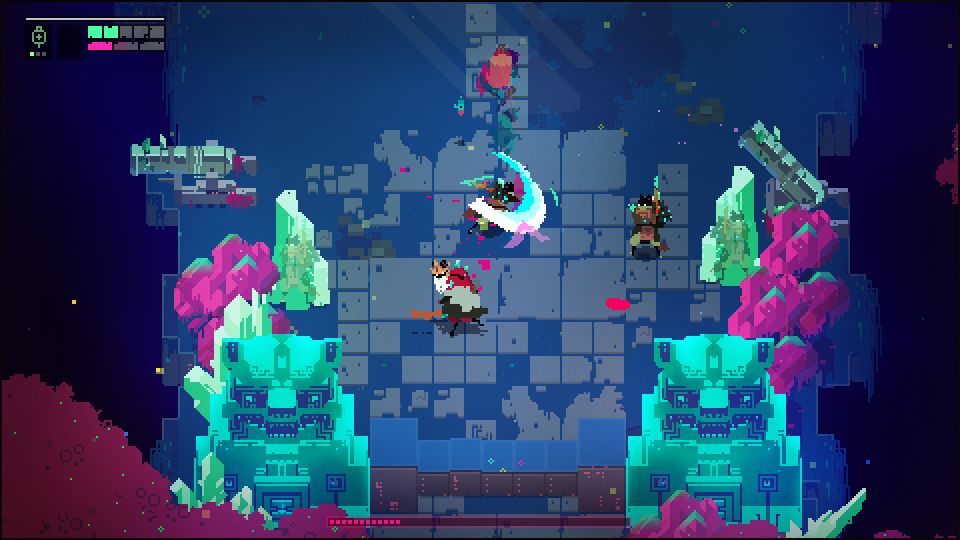hanged_man: (411, 259, 490, 333)
player: (483, 36, 520, 106)
